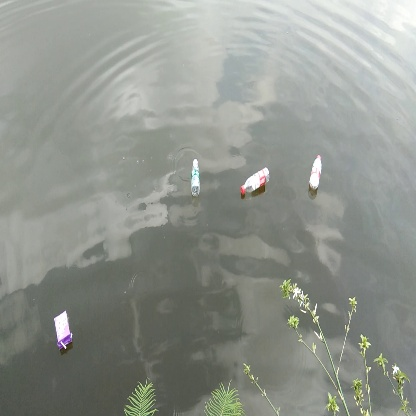bottle: (302, 149, 336, 202), (234, 162, 273, 202), (187, 155, 206, 200)
milk-box: (49, 309, 78, 352)
